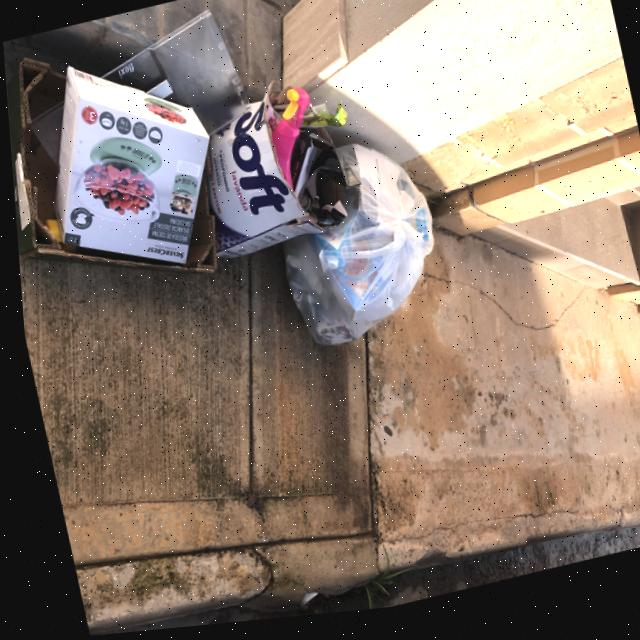Other: (3, 25, 229, 323), (23, 36, 232, 298), (176, 66, 376, 276), (16, 13, 258, 185)
Recycled Waste -Grey or Green Bag-: (254, 131, 454, 369)
